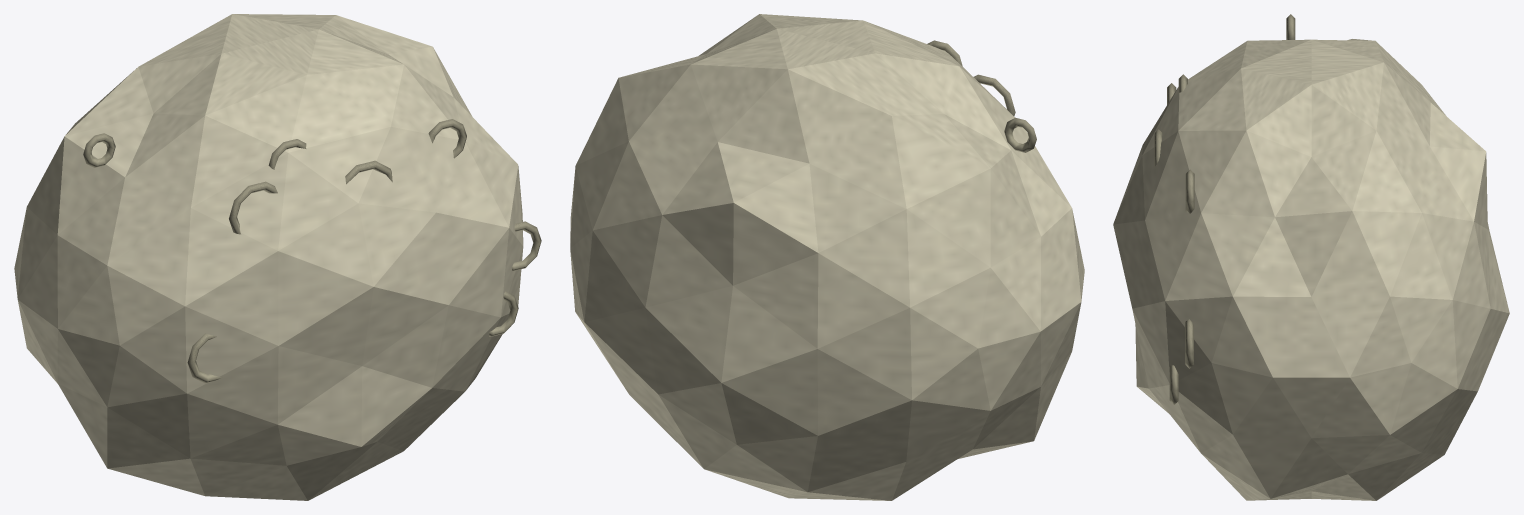
File: moon_stone.glb
3 views of the same model, side by side, from view 1: azimuth 30°, elevation 25°; view 2: azimuth 150°, elevation 25°; view 3: azimuth 270°, elevation 25° (orthographic). The views are drawn at different scales.
Visible parts, largest first — view 1: static_ornament; view 2: static_ornament; view 3: static_ornament.
Part boxes in pixels (bbox=[...]): static_ornament: bbox=[14, 14, 541, 500]; static_ornament: bbox=[570, 14, 1084, 500]; static_ornament: bbox=[1113, 14, 1509, 500].
Bounding box in the file's own units: 1.01 × 0.8973 × 0.7792.
Materials: 1 (1 with a texture image).
